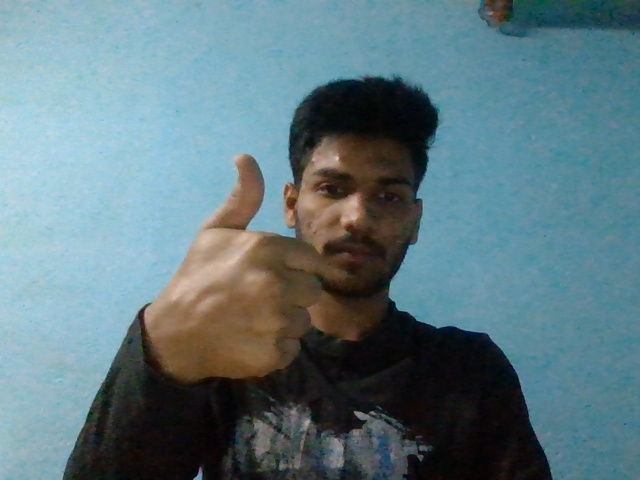ThumbsUp: (159, 152, 321, 378)
